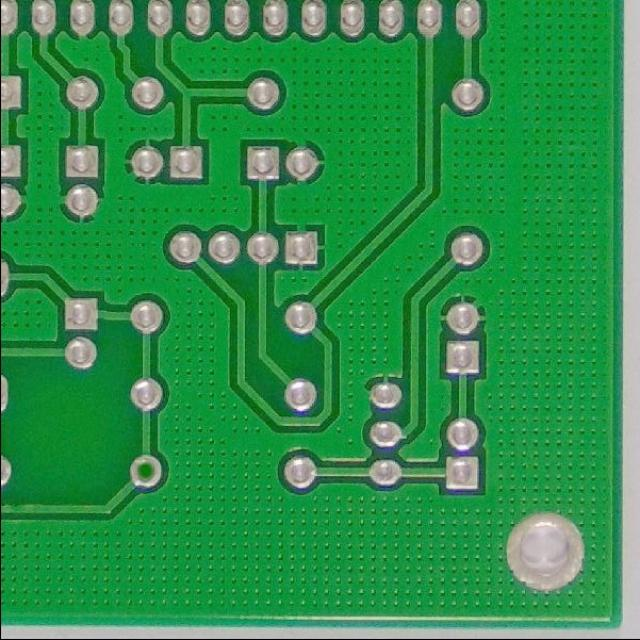Missing_Hole: (125, 450, 168, 491)
